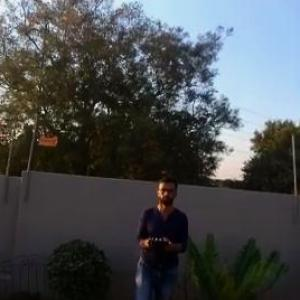follow: (126, 170, 192, 299)
